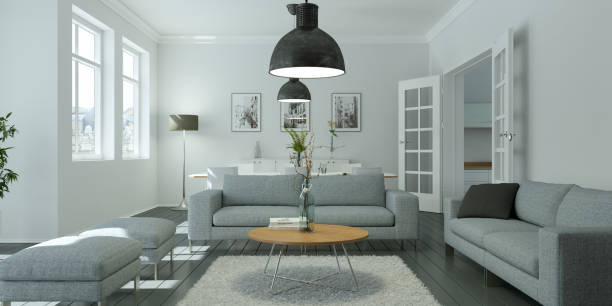chair: (0, 234, 143, 305), (78, 214, 181, 281)
floor lamp: (164, 111, 199, 213)
flower vase: (294, 142, 322, 234)
sofa: (442, 176, 611, 304), (185, 171, 421, 254)
table: (248, 222, 370, 295)
wall art: (228, 91, 262, 132), (330, 91, 362, 133), (279, 102, 310, 132)
